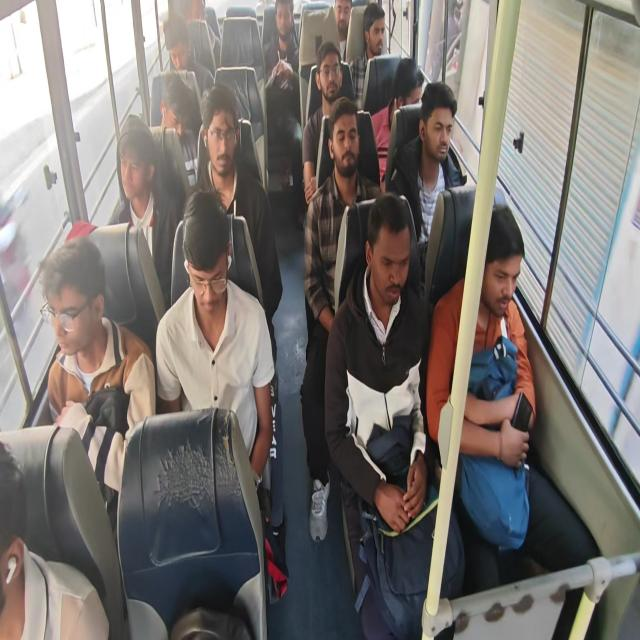person: (0, 463, 83, 640), (26, 246, 117, 382), (174, 201, 249, 334), (464, 246, 524, 348), (116, 121, 166, 204), (417, 102, 460, 169), (368, 211, 396, 312), (332, 99, 364, 177), (203, 118, 247, 172), (166, 82, 194, 155), (392, 59, 424, 117), (353, 4, 376, 55), (163, 27, 190, 70), (274, 4, 297, 52), (317, 44, 336, 86), (162, 0, 206, 17), (332, 0, 352, 29)
